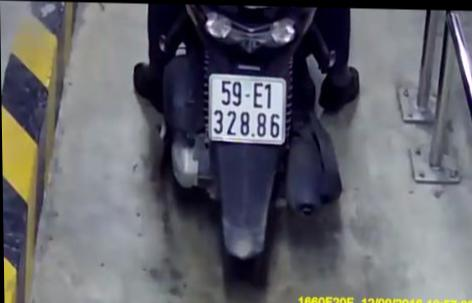LP: (207, 71, 288, 144)
